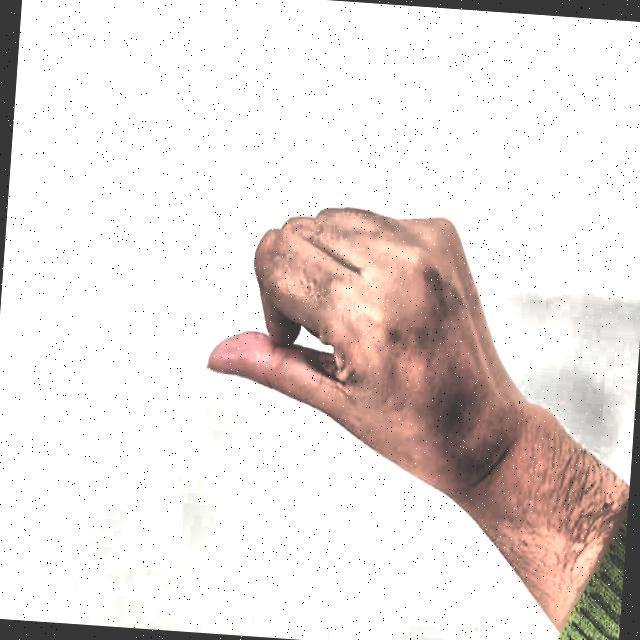Ay: (181, 151, 498, 530)
